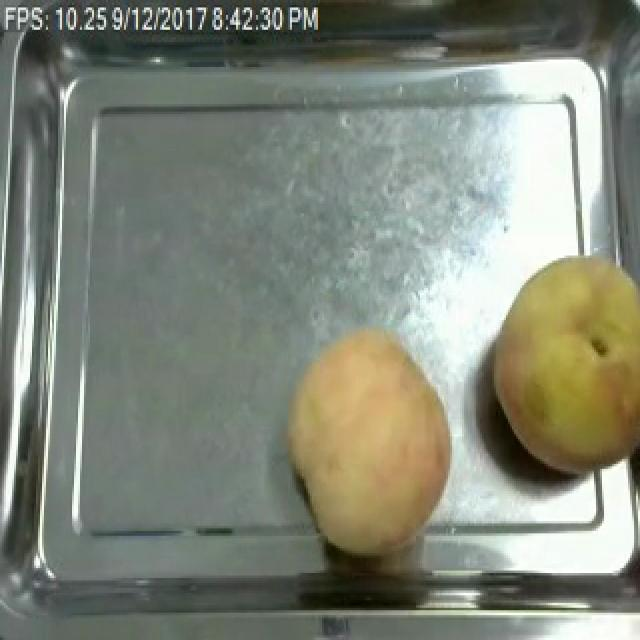Fruit: (274, 320, 464, 561), (482, 241, 640, 481)
